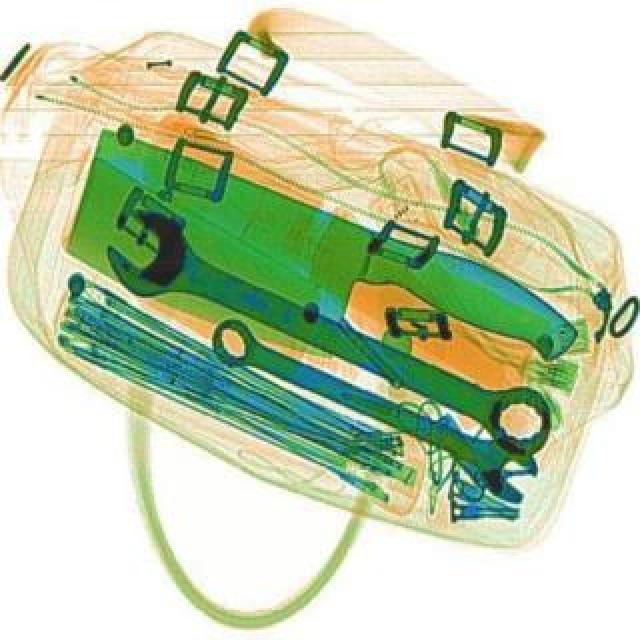knife: (40, 124, 588, 448)
scissors: (88, 206, 572, 470), (198, 312, 546, 512)
